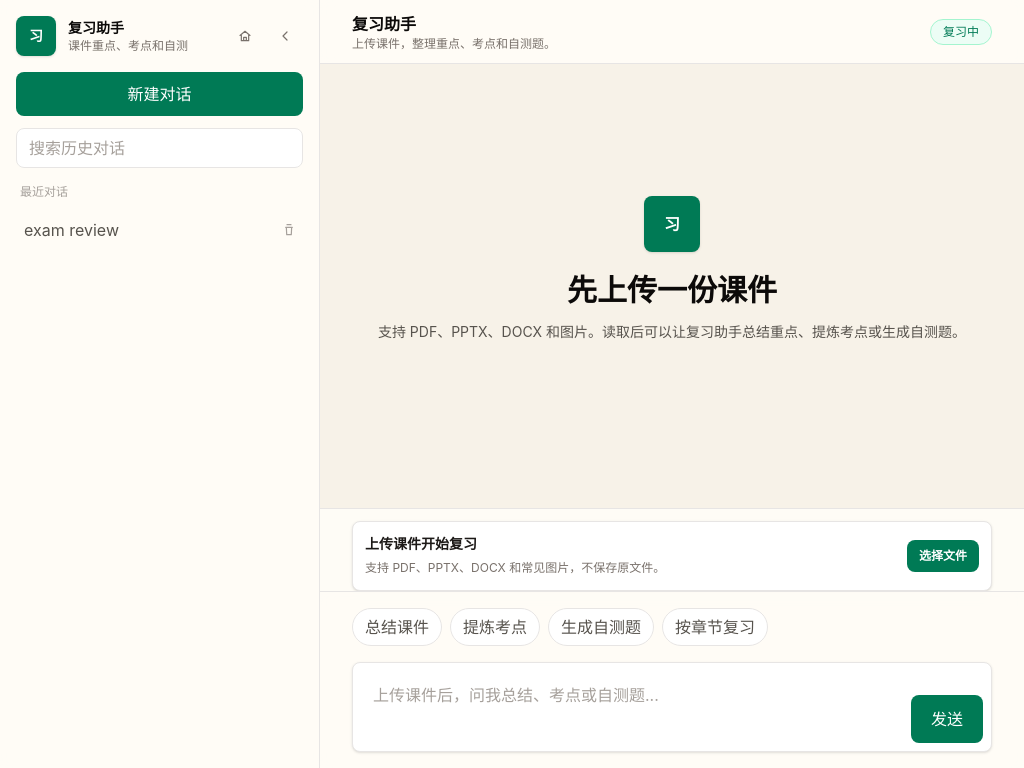
Test: StudyApp › restores study materials when users open a history conversation
Click the button "exam review" at (140, 230), box [12,208,267,252]
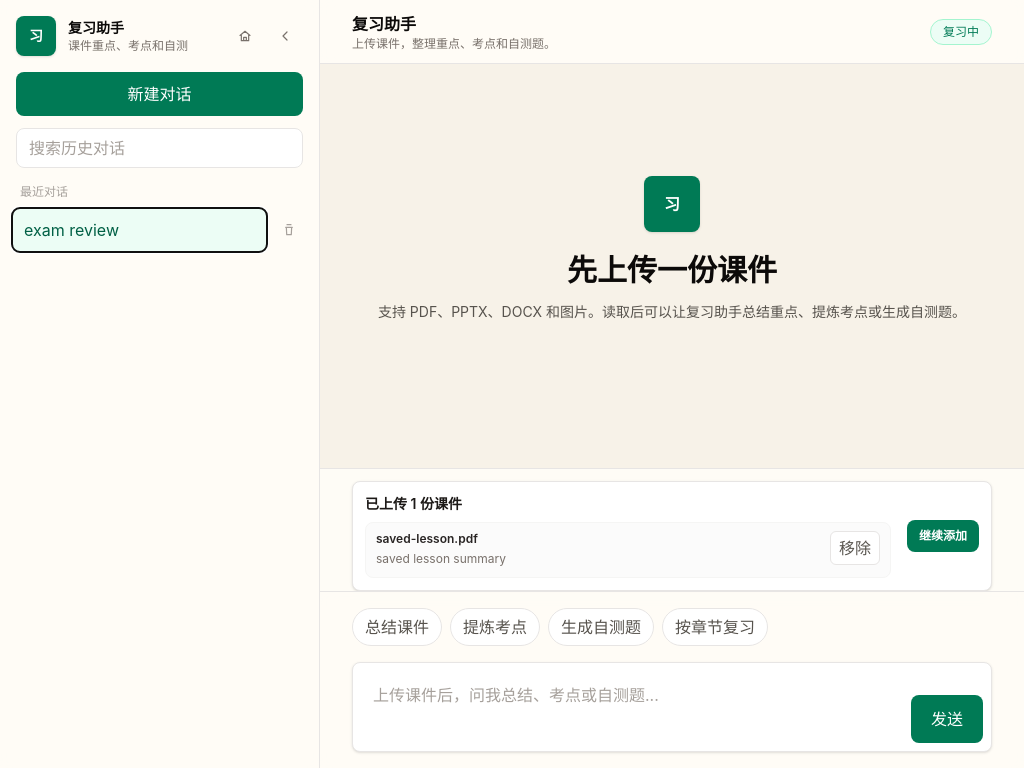
Expected: the text "saved-lesson.pdf" is shown, [376,531,478,546]
Expected: the text "saved lesson summary" is shown, [376,549,506,569]
